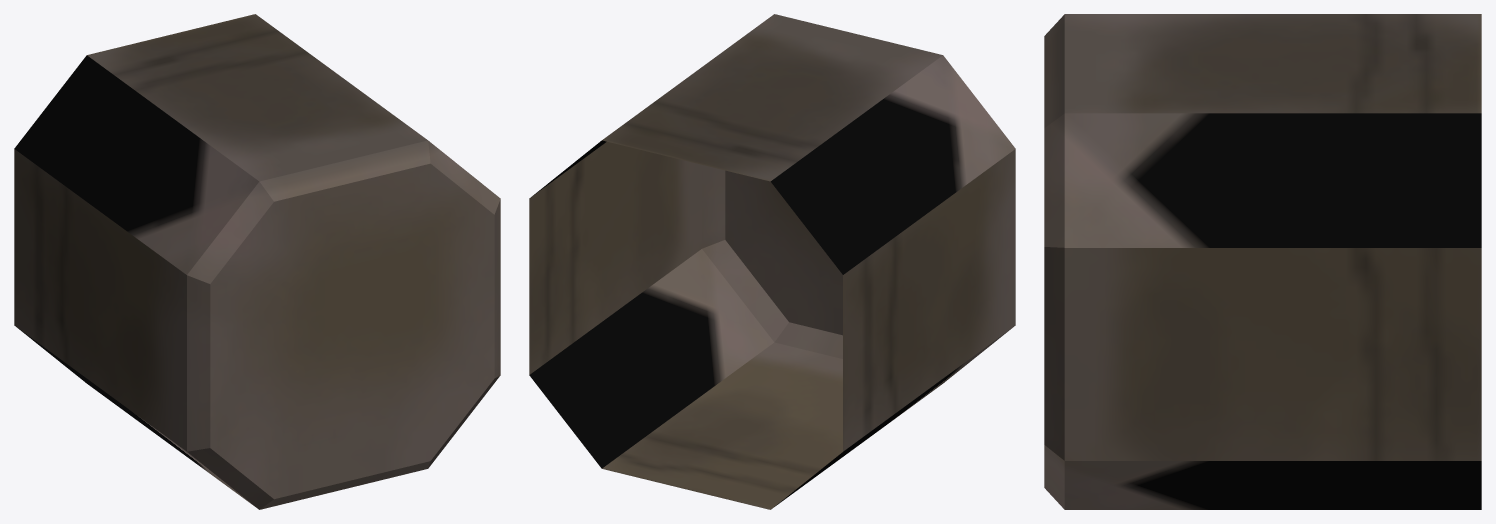
The model's file is Wall_Beveled.obj.
3 renders of one model, left to right at view 1: azimuth 30°, elevation 25°; view 2: azimuth 150°, elevation 25°; view 3: azimuth 270°, elevation 25°, orthographic. The views are drawn at different scales.
Visible parts, largest first — view 1: Cube; view 2: Cube; view 3: Cube.
Boxes of the visible parts, x1,y1,x2,y2 form: Cube: (14, 14, 500, 509); Cube: (529, 14, 1015, 509); Cube: (1044, 14, 1481, 509).
Size of the model in its own units: 1 by 1 by 1.
